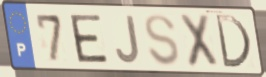7: (34, 13, 65, 63)
D: (213, 13, 254, 71)
E: (67, 13, 111, 65)
J: (114, 14, 142, 65)
S: (143, 13, 182, 69)
X: (177, 12, 220, 70)
